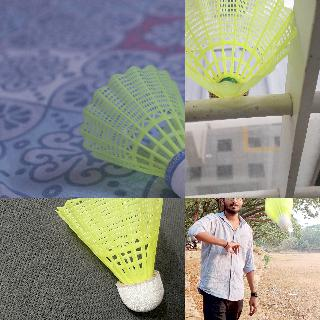shuttlecock: (79, 64, 184, 197), (54, 198, 166, 313), (185, 0, 297, 98), (265, 198, 294, 231)
